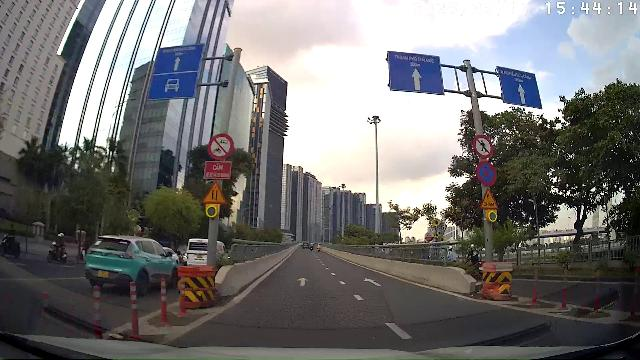130-cam-dung-va-do-xe: (476, 160, 496, 186)
